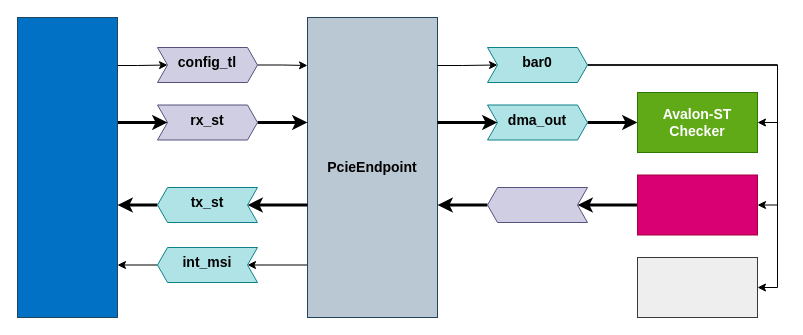
This 803x335 diagram has some shape labels left out. The shapes that lost their labels are listed below. From the top down, each one's centre as x and y in pixels, then its label:
the point at 67,167: Stratix V Hard IP for PCI Express
the point at 537,204: dma_in
the point at 697,204: Avalon-ST Generator
the point at 697,287: On-Chip Memory
